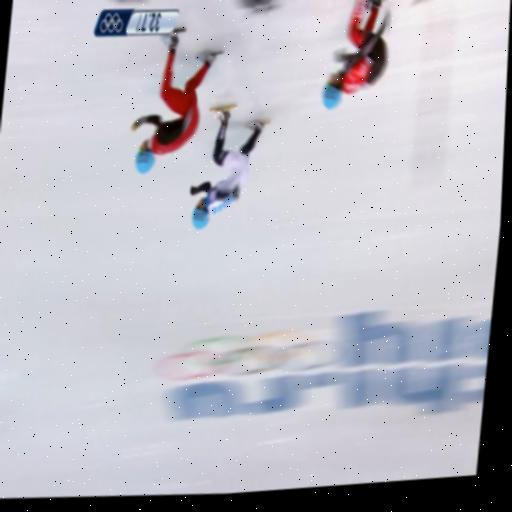Skater: (131, 30, 221, 173), (190, 108, 264, 228), (322, 0, 389, 108)
